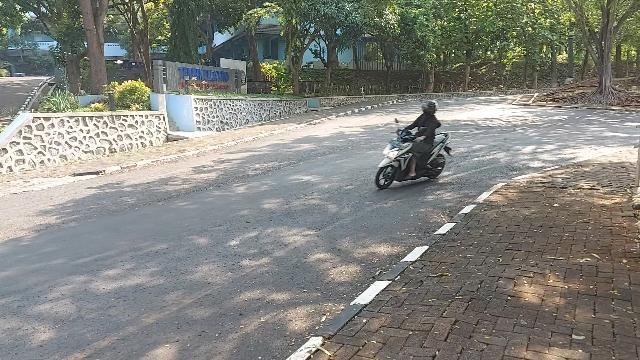helm: (422, 102, 438, 117)
motor: (377, 120, 454, 191)
